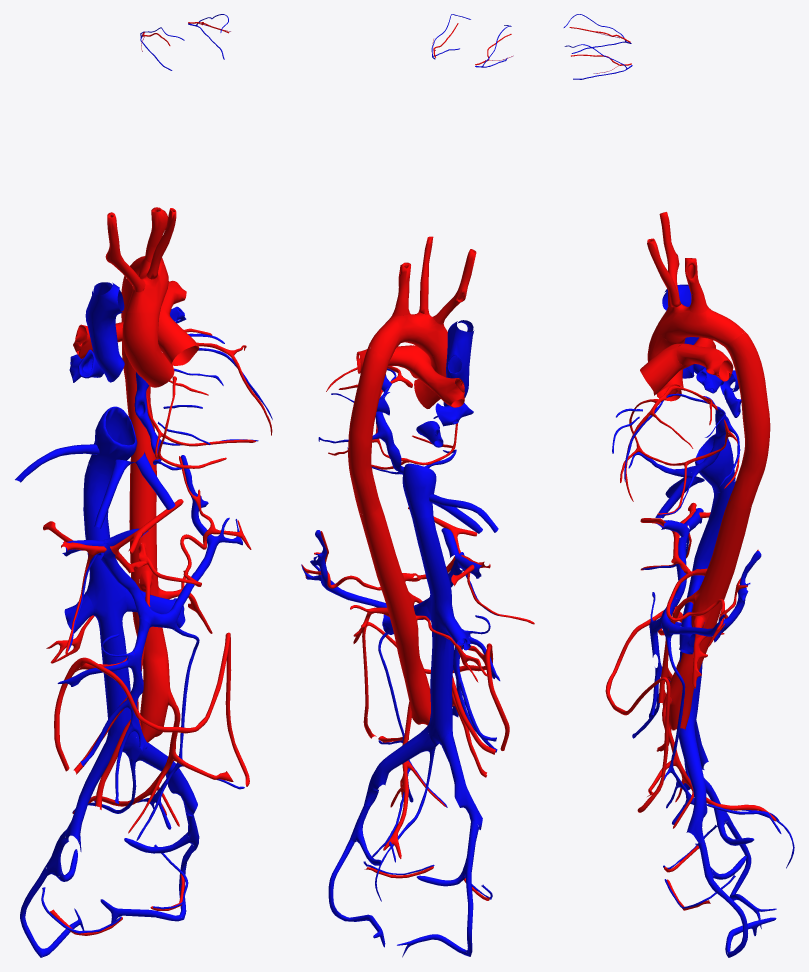
Rendered from vessels.glb.
3 views of the same model, side by side, from view 1: azimuth 30°, elevation 25°; view 2: azimuth 150°, elevation 25°; view 3: azimuth 270°, elevation 25° (orthographic). The views are drawn at different scales.
Parts seen in each view (by area): view 1: VH_F_inferior_vena_cava_b, VH_F_descending_aorta_b, VH_F_superior_vena_cava, VH_F_marginal_artery_of_Drummond, VH_F_ascending_aorta, VH_F_inferior_vena_cava_a, VH_F_splenic_vein, VH_F_aortic_arch, VH_F_left_common_iliac_vein, VH_F_pulmonary_trunk, VH_F_descending_aorta_a, VH_F_right_common_iliac_vein (+15 smaller); view 2: VH_F_descending_aorta_b, VH_F_inferior_vena_cava_b, VH_F_descending_aorta_a, VH_F_aortic_arch, VH_F_inferior_vena_cava_a, VH_F_left_common_iliac_vein, VH_F_superior_vena_cava, VH_F_marginal_artery_of_Drummond, VH_F_pulmonary_artery_R, VH_F_right_common_iliac_vein, VH_F_splenic_vein, VH_F_ascending_aorta (+6 smaller); view 3: VH_F_descending_aorta_b, VH_F_descending_aorta_a, VH_F_aortic_arch, VH_F_inferior_vena_cava_b, VH_F_left_common_iliac_vein, VH_F_marginal_artery_of_Drummond, VH_F_splenic_vein, VH_F_pulmonary_artery_L, VH_F_inferior_vena_cava_a, VH_F_pulmonary_trunk, VH_F_splenic_artery, VH_F_ascending_aorta (+11 smaller).
Part boxes in pixels (x1,y1,x2,y2): VH_F_inferior_vena_cava_b: (83,463,136,752); VH_F_descending_aorta_b: (129,443,170,742); VH_F_superior_vena_cava: (85,282,124,382); VH_F_marginal_artery_of_Drummond: (54,632,249,786); VH_F_ascending_aorta: (122,312,174,387); VH_F_inferior_vena_cava_a: (88,406,137,476); VH_F_splenic_vein: (140,455,242,629); VH_F_aortic_arch: (125,256,168,315); VH_F_left_common_iliac_vein: (125,733,197,815); VH_F_pulmonary_trunk: (157,309,199,365); VH_F_descending_aorta_a: (121,276,154,444); VH_F_right_common_iliac_vein: (64,736,116,844); VH_F_descending_aorta_b: (359,503,430,725); VH_F_inferior_vena_cava_b: (412,516,454,745); VH_F_descending_aorta_a: (348,347,389,514); VH_F_aortic_arch: (368,312,447,360); VH_F_inferior_vena_cava_a: (402,463,436,517); VH_F_left_common_iliac_vein: (364,724,434,805); VH_F_superior_vena_cava: (443,320,474,406); VH_F_marginal_artery_of_Drummond: (362,622,509,750); VH_F_pulmonary_artery_R: (413,356,464,407); VH_F_right_common_iliac_vein: (441,729,482,829); VH_F_splenic_vein: (301,530,386,607); VH_F_ascending_aorta: (414,347,447,408); VH_F_descending_aorta_b: (668,497,751,730); VH_F_descending_aorta_a: (724,332,770,509); VH_F_aortic_arch: (658,304,744,345); VH_F_inferior_vena_cava_b: (679,480,735,725); VH_F_left_common_iliac_vein: (679,718,707,843); VH_F_marginal_artery_of_Drummond: (605,609,682,812); VH_F_splenic_vein: (661,551,761,642); VH_F_pulmonary_artery_L: (676,344,733,381); VH_F_inferior_vena_cava_a: (695,434,735,492); VH_F_pulmonary_trunk: (640,343,694,394); VH_F_splenic_artery: (666,549,758,647); VH_F_ascending_aorta: (647,323,685,401).
Size of the model in its own units: 0.1927 by 0.799 by 0.1847.
